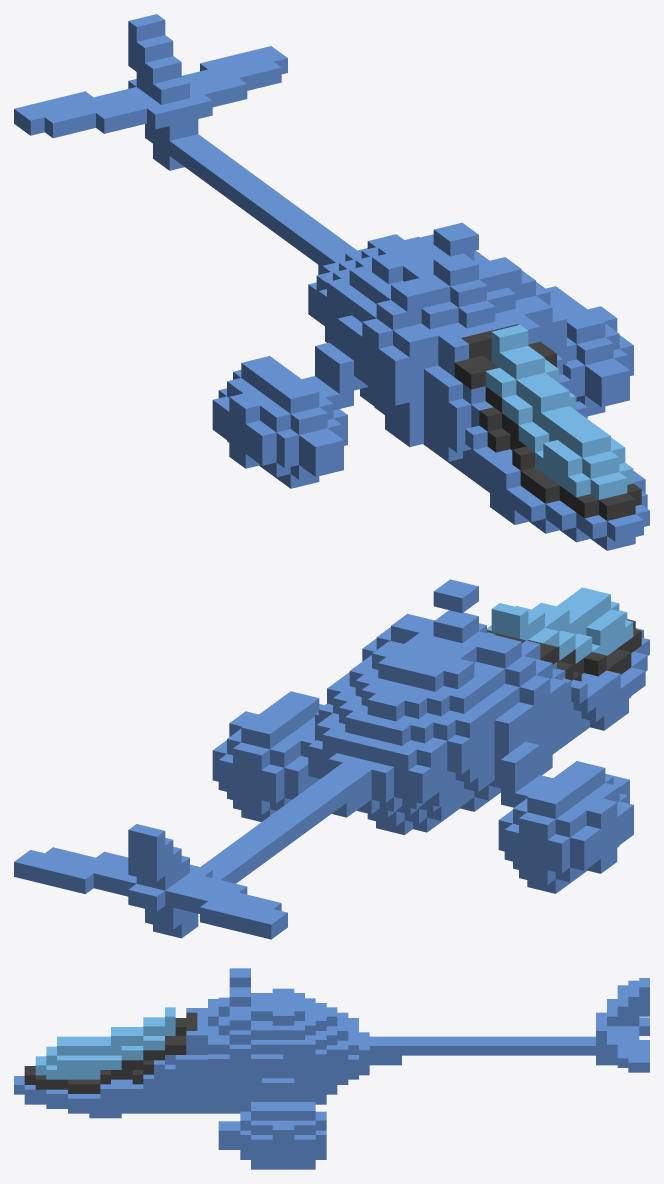
The model's file is ApacheBody.obj.
3 views of the same model, one above another, from view 1: azimuth 30°, elevation 25°; view 2: azimuth 150°, elevation 25°; view 3: azimuth 270°, elevation 25° (orthographic). The views are drawn at different scales.
Bounding box in the file's own units: 2.6 × 1.5 × 5.9.
Materials: 1 (1 with a texture image).
